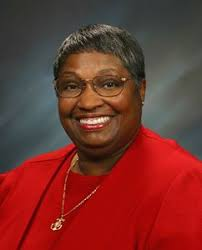person: (54, 22, 147, 157)
